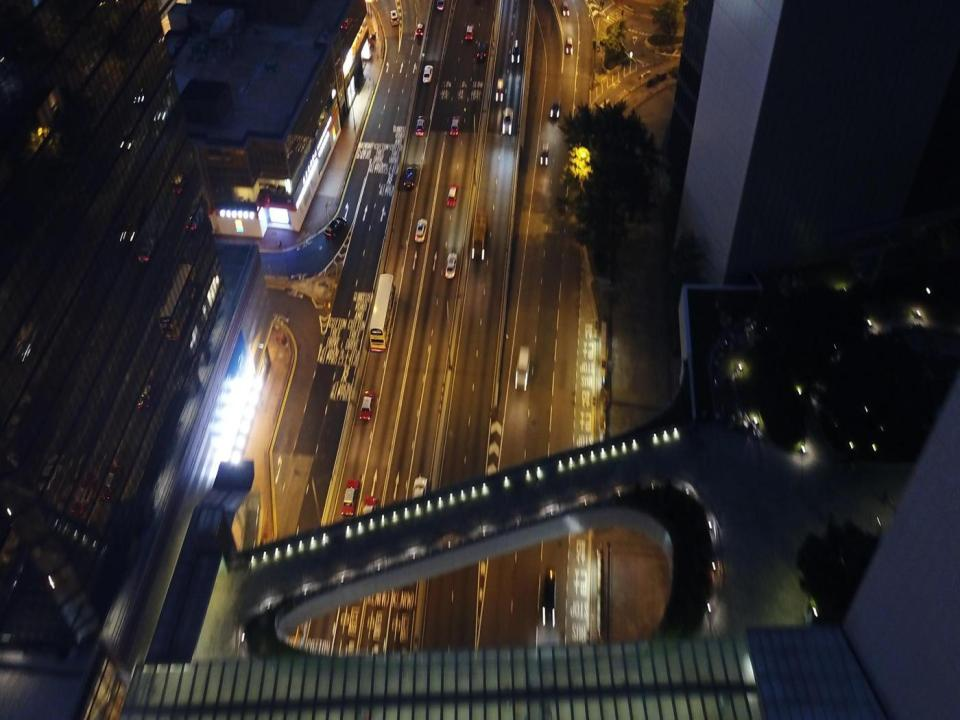bus: (369, 273, 396, 350)
car: (541, 569, 555, 630), (360, 497, 376, 535), (516, 345, 529, 391), (341, 480, 358, 514), (410, 477, 426, 513), (323, 216, 346, 238), (360, 390, 375, 419), (403, 164, 416, 190), (413, 218, 428, 240), (501, 108, 513, 135), (445, 253, 457, 277), (447, 184, 458, 207), (510, 40, 521, 63), (540, 142, 549, 166), (495, 78, 504, 100), (422, 65, 433, 82), (450, 114, 459, 134), (415, 116, 424, 135), (476, 42, 486, 59), (550, 102, 559, 120), (465, 23, 474, 39), (390, 9, 398, 25), (565, 36, 572, 54), (561, 1, 570, 15), (416, 24, 423, 36), (436, 0, 444, 10)
truck: (471, 213, 488, 258)
